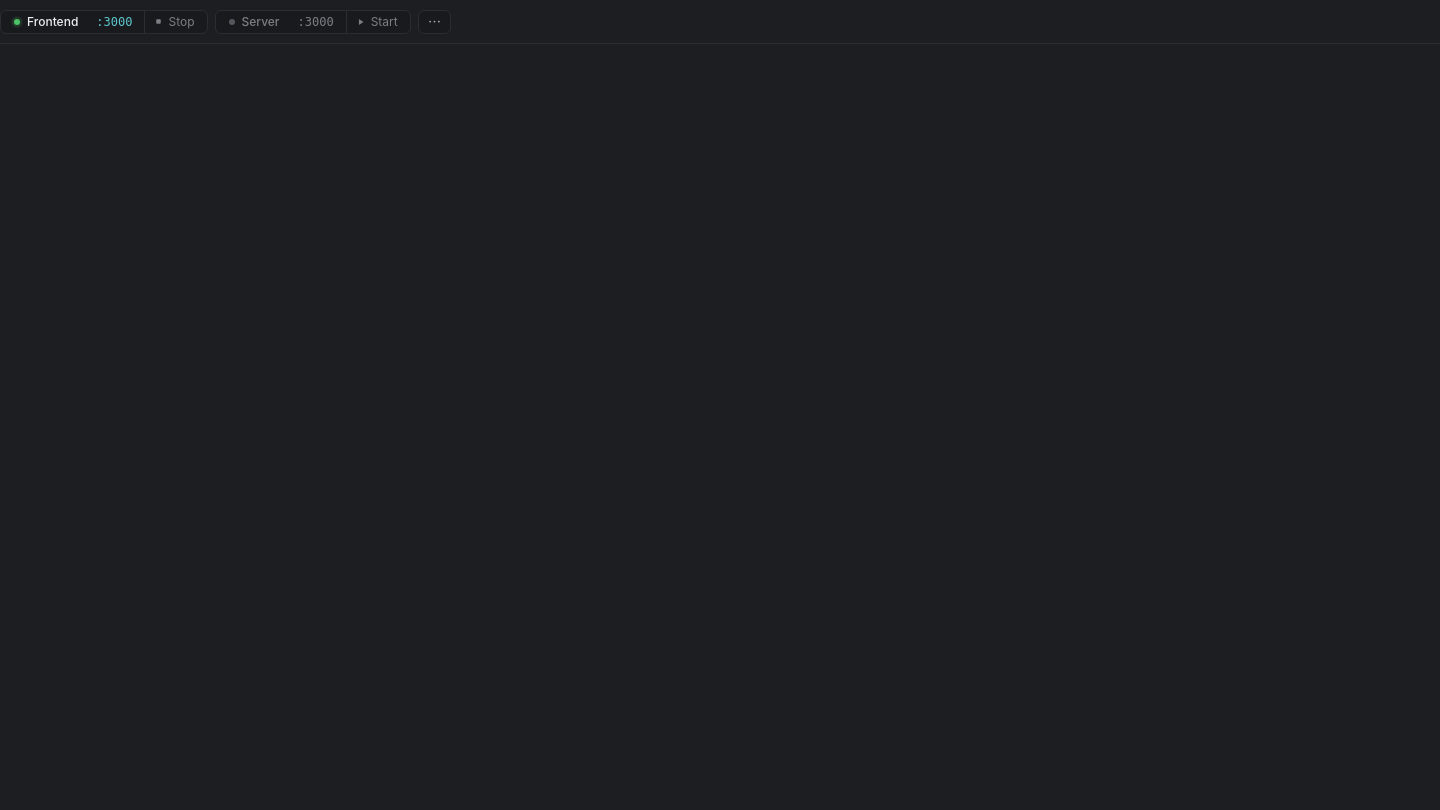
reduces visible services at narrow widths and restores focus on Escape
Click the button named "1 more services" at x=434, y=22, box [418, 10, 451, 34]
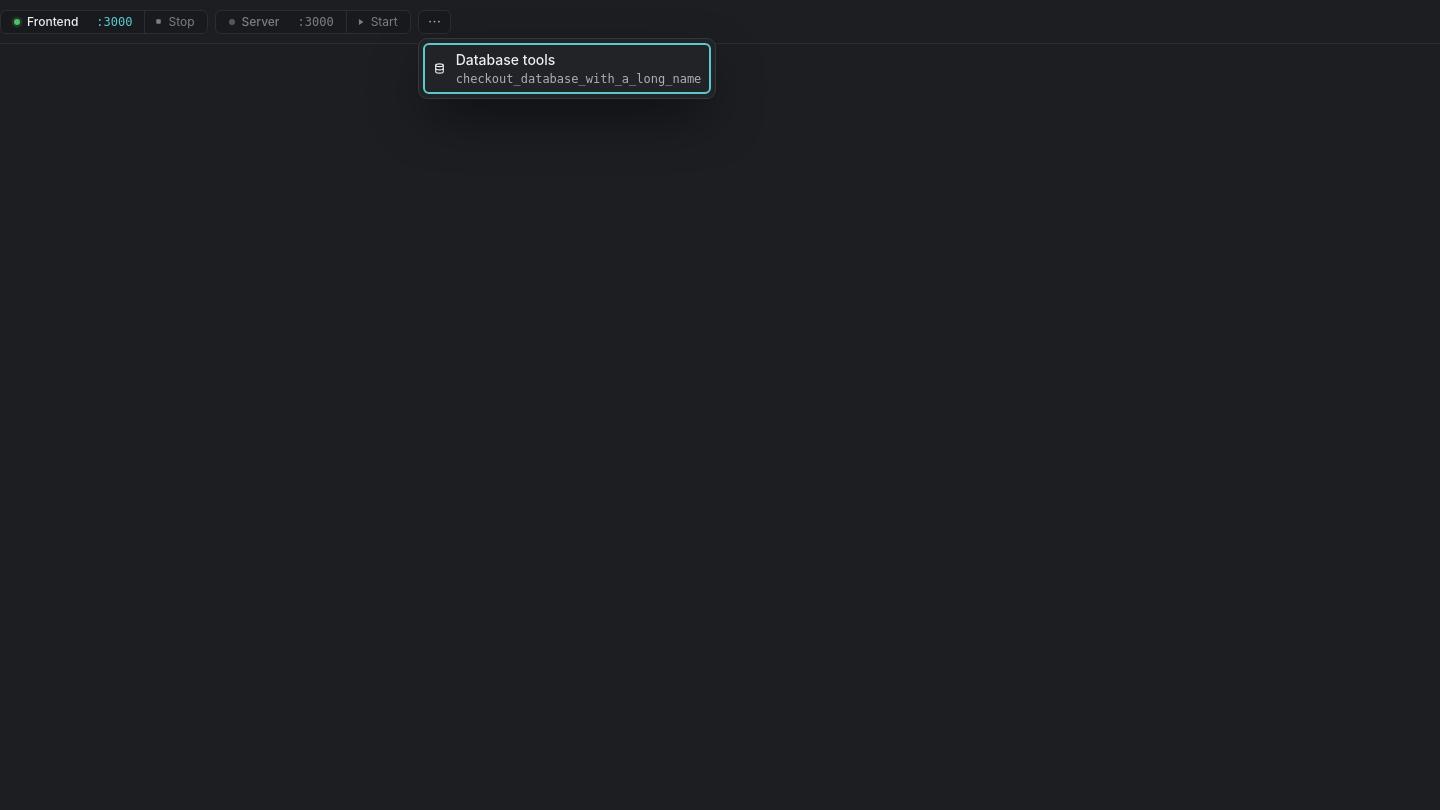
Press Escape
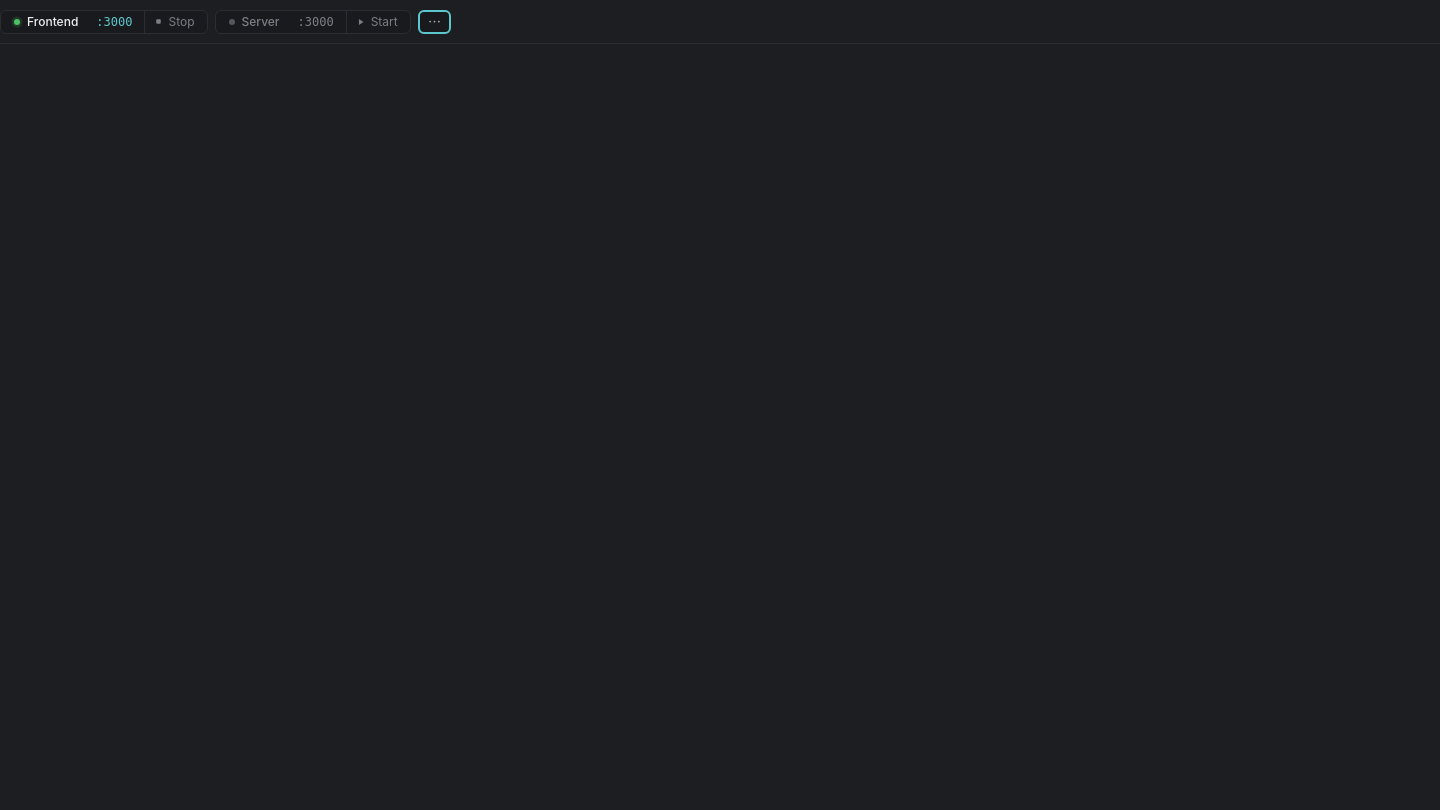
expect the dialog is gone: met
